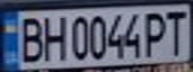0: (66, 11, 90, 61), (87, 11, 109, 60)
4: (121, 9, 145, 58), (106, 10, 127, 60)
B: (12, 14, 48, 63)
H: (39, 12, 69, 62)
P: (142, 8, 172, 59)
T: (163, 7, 190, 56)
